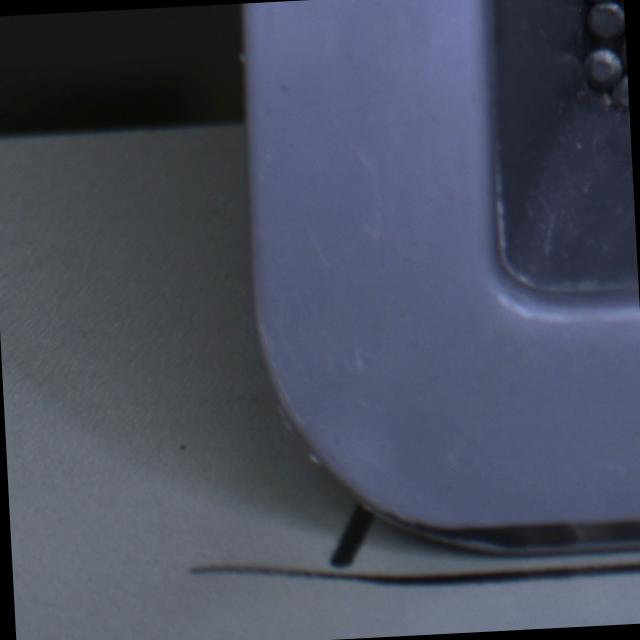tool: (582, 46, 623, 87), (588, 1, 626, 40)
